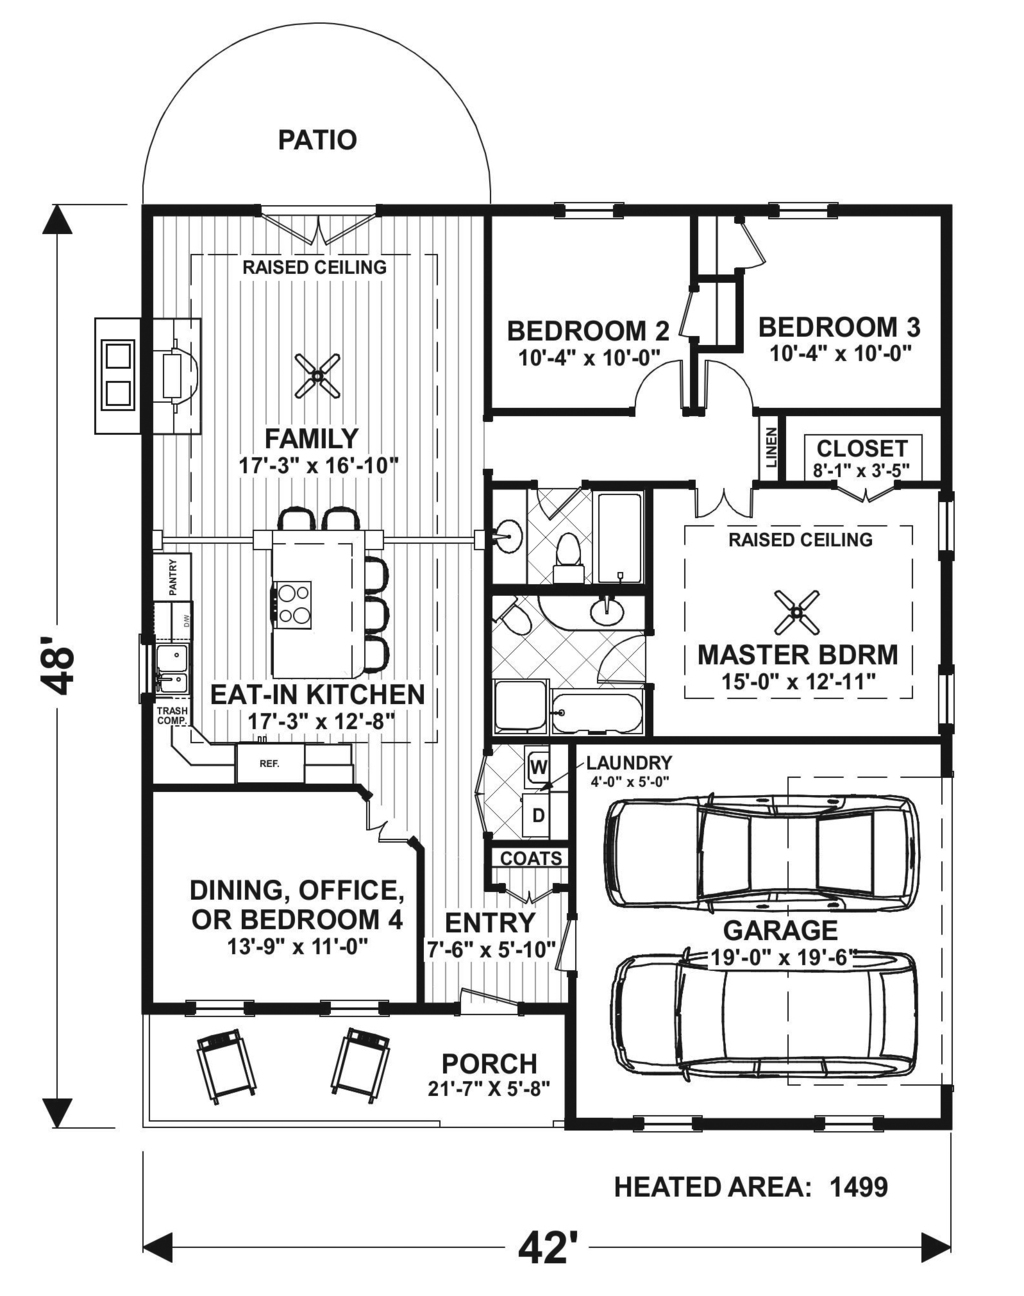door: (263, 203, 383, 259), (627, 355, 697, 419), (707, 359, 763, 419), (593, 629, 652, 683), (691, 479, 763, 523), (365, 797, 413, 853), (459, 983, 525, 1019), (835, 477, 905, 507), (551, 922, 583, 981), (507, 885, 559, 909)
kitchen_bar: (250, 505, 403, 685)
large_sink: (541, 531, 597, 593), (493, 601, 551, 649)
small_sink: (573, 587, 641, 635), (487, 497, 533, 569)
tub: (551, 687, 649, 741), (593, 495, 647, 583)
twin_sink: (153, 639, 201, 701)
window: (309, 989, 401, 1015), (633, 1105, 697, 1139), (187, 991, 257, 1022), (935, 491, 963, 563), (931, 663, 961, 725), (775, 201, 839, 227), (817, 1115, 879, 1139), (555, 199, 623, 219)
